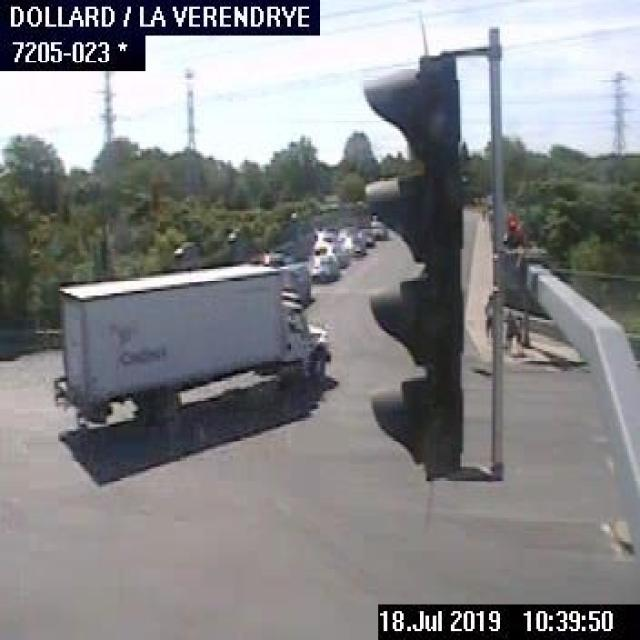pedestrian: (481, 290, 496, 339), (502, 306, 514, 356)
vehicle: (49, 259, 332, 429), (307, 246, 340, 284), (348, 234, 368, 259), (369, 220, 388, 240)
